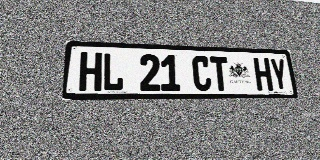1: (160, 55, 180, 91)
2: (140, 54, 160, 91)
C: (192, 56, 212, 91)
H: (79, 52, 102, 91), (253, 58, 273, 91)
L: (102, 53, 124, 91)
T: (210, 56, 230, 91)
Y: (269, 58, 289, 91)
